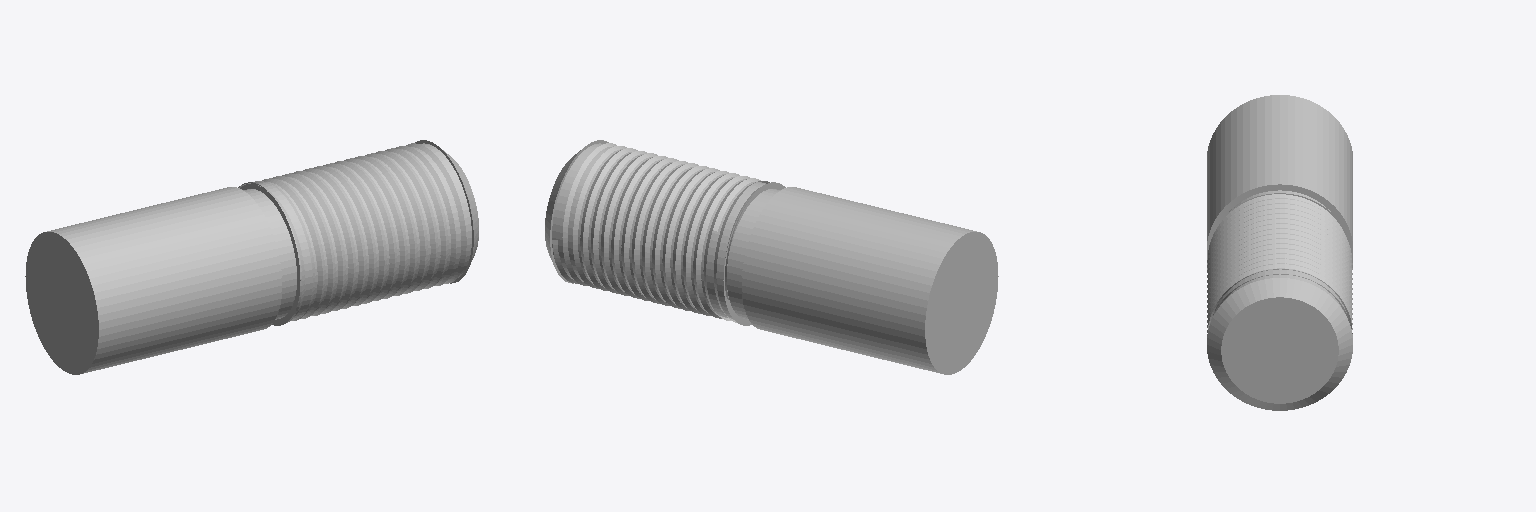
The model's file is ZagotovkaNarezanaya.obj.
The picture shows the model from 3 angles: view 1: azimuth 30°, elevation 25°; view 2: azimuth 150°, elevation 25°; view 3: azimuth 270°, elevation 25°; orthographic projection.
Parts seen in each view (by area): view 1: pCylinder2, pHelix1; view 2: pCylinder2, pHelix1; view 3: pCylinder2, pHelix1.
Part boxes in pixels (bbox=[...]): pCylinder2: bbox=[25, 140, 478, 374]; pHelix1: bbox=[239, 143, 466, 322]; pCylinder2: bbox=[545, 140, 998, 374]; pHelix1: bbox=[552, 143, 769, 322]; pCylinder2: bbox=[1207, 95, 1352, 410]; pHelix1: bbox=[1207, 194, 1352, 333].
Bounding box in the file's own units: 0.2663 × 0.0874 × 0.0874.